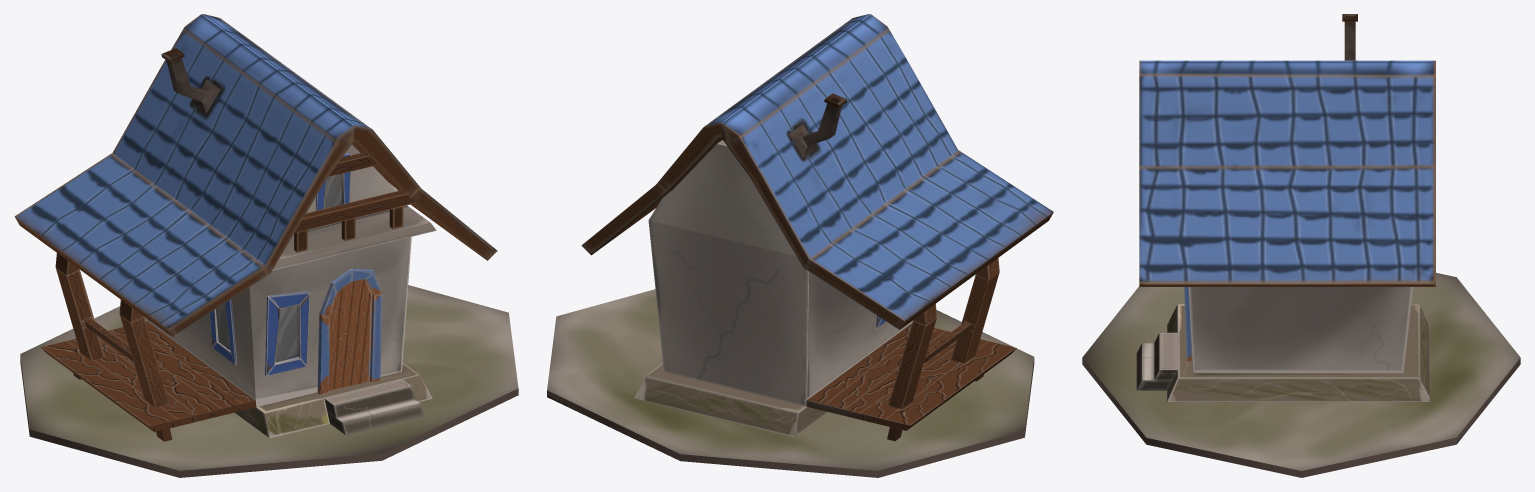
Rendered from house3D.gltf.
3 renders of one model, left to right at view 1: azimuth 30°, elevation 25°; view 2: azimuth 150°, elevation 25°; view 3: azimuth 270°, elevation 25°, orthographic. The views are drawn at different scales.
Visible parts, largest first — view 1: Object_3; view 2: Object_3; view 3: Object_3.
Part boxes in pixels (bbox=[...]): Object_3: bbox=[14, 14, 518, 477]; Object_3: bbox=[547, 14, 1053, 477]; Object_3: bbox=[1082, 14, 1520, 477].
Size of the model in its own units: 185 by 120 by 151.
Materials: 1 (1 with a texture image).
